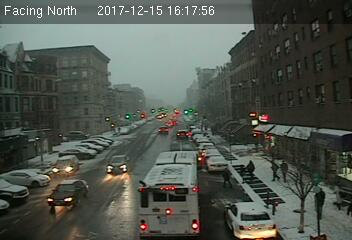bus: (140, 150, 206, 239)
car: (224, 200, 277, 240), (45, 178, 89, 208), (52, 155, 78, 176), (105, 154, 130, 174), (206, 156, 227, 172), (157, 126, 169, 134), (176, 129, 188, 137)
pedestrian: (219, 166, 235, 190), (269, 157, 281, 185), (246, 158, 257, 184), (279, 157, 289, 183)
